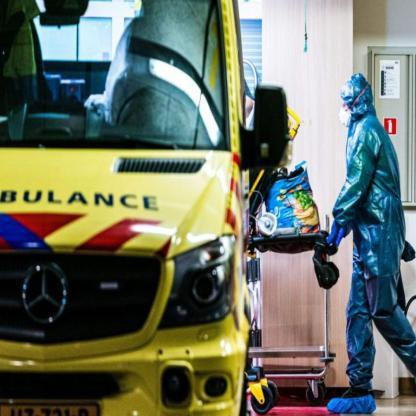Ambulance - v1 Ambulance last generate: (0, 0, 245, 415)
